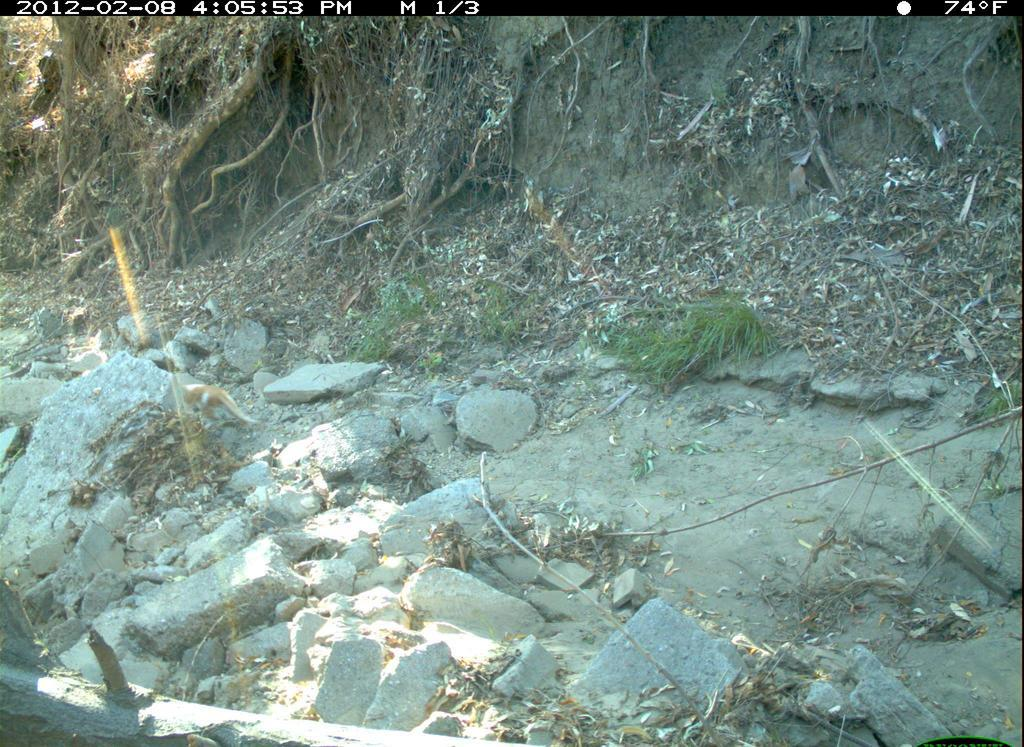cat: (153, 350, 278, 451)
